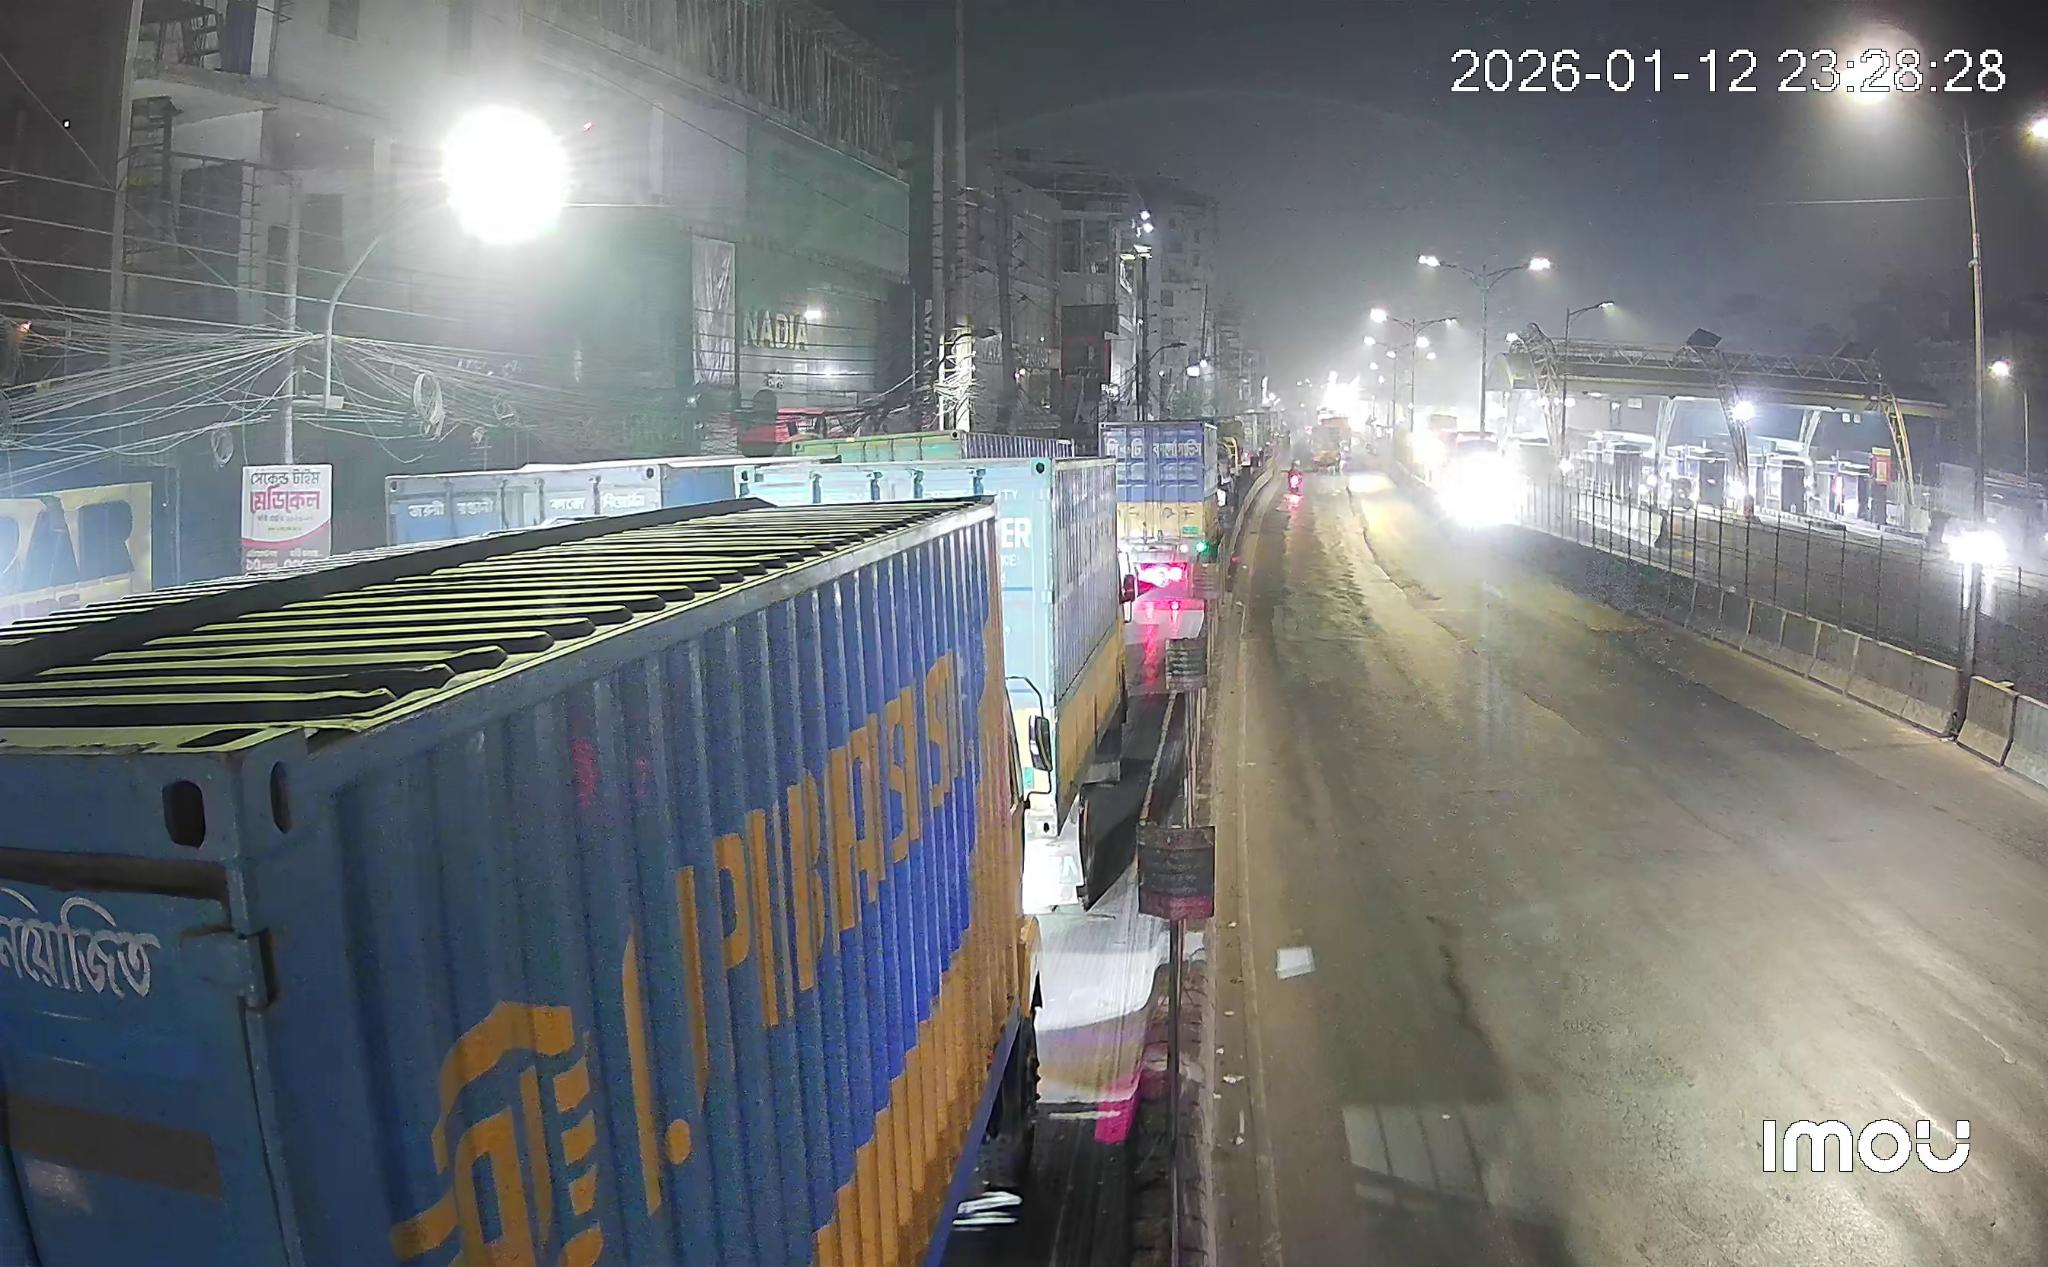Truck: (0, 497, 1039, 1267), (748, 456, 1128, 911), (1102, 418, 1220, 597)
